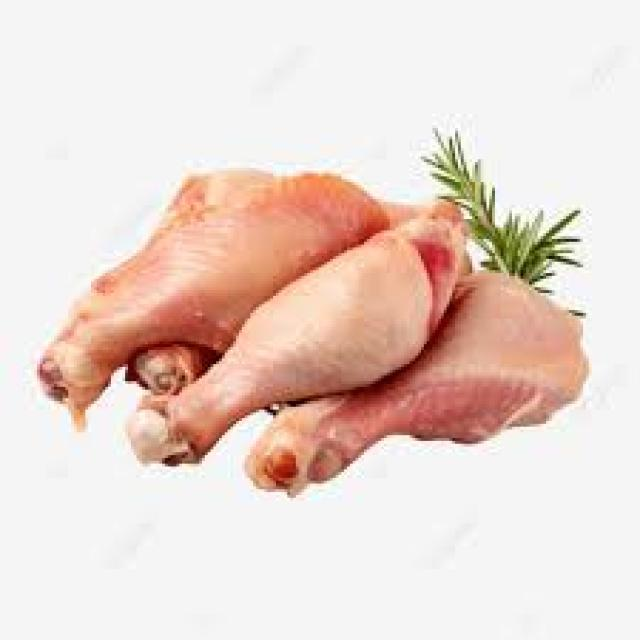leg: (1, 163, 346, 390), (134, 214, 454, 448), (284, 277, 582, 496)
